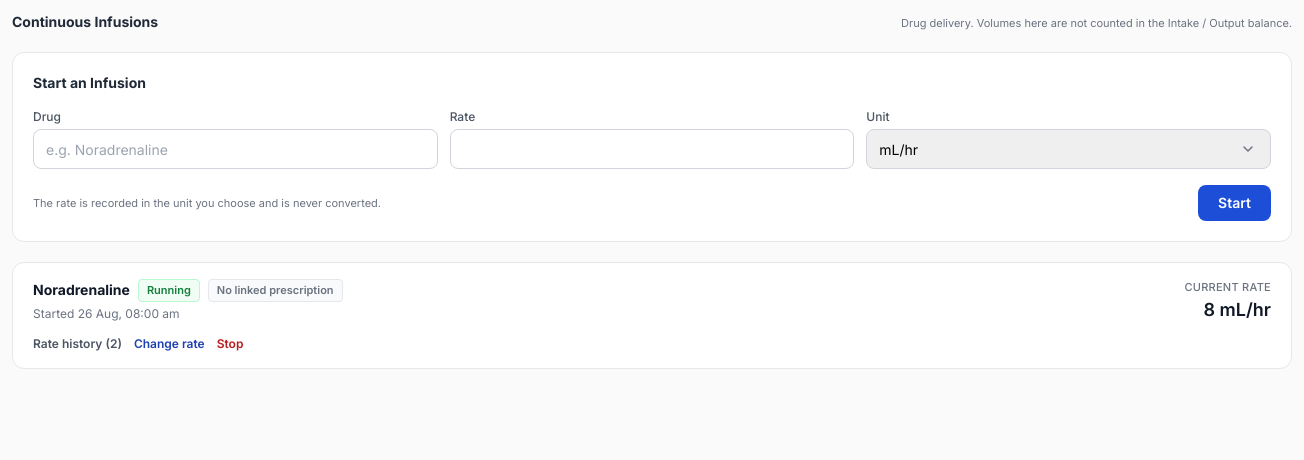
Scenario: InfusionPanel — ICU continuous infusions (ICU-6) › keeps the earlier rate on the chart after a titration
What coordinates should you click on to do the following:
click the button "Rate history (2)"
I would click on:
 (77, 344)
Its box is [33,336,122,352].
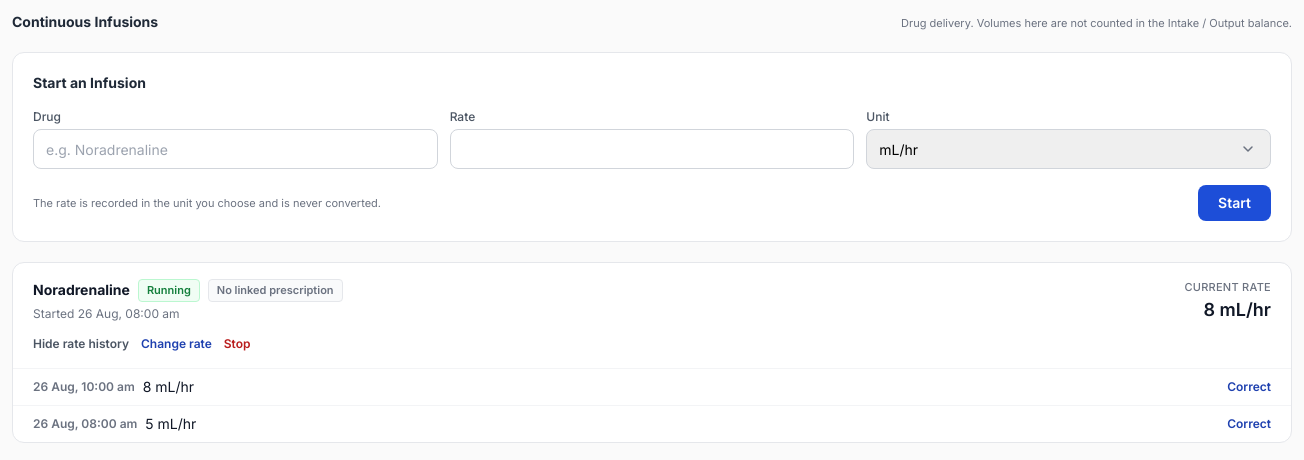
Expected: the text "8 mL/hr" below "Current rate" is shown, [1204,298,1271,320]
Now the text "5 mL/hr" is shown, box [145,414,196,434]
